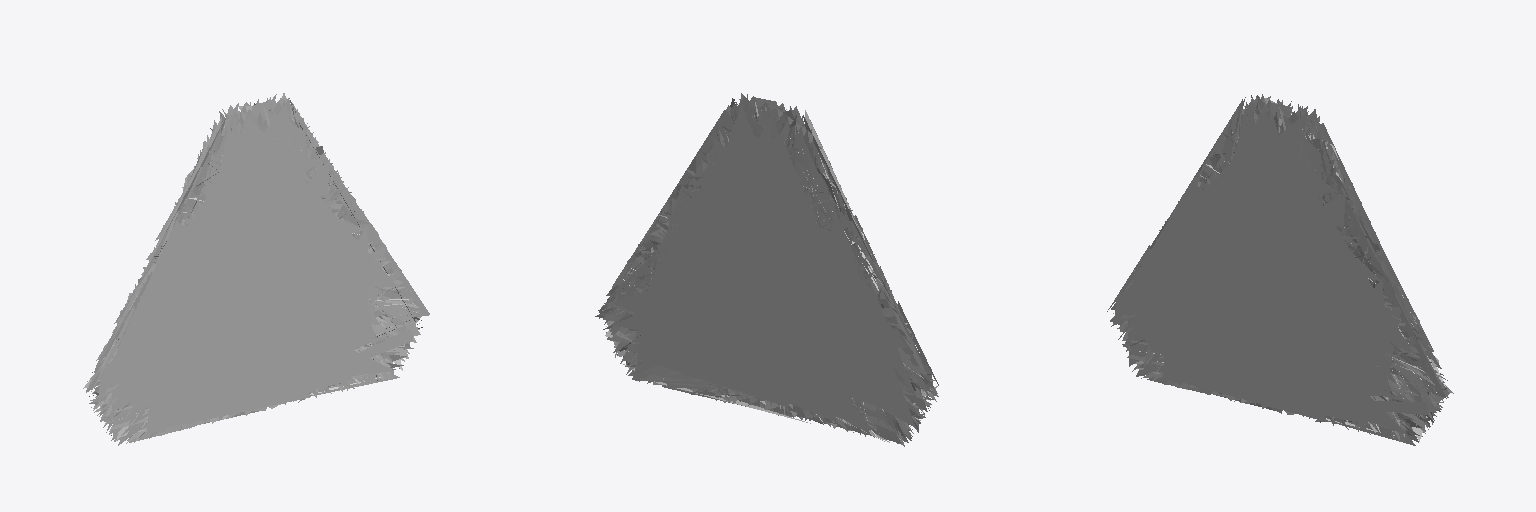
Rendered from lpstl_poissonds.obj.
The picture shows the model from 3 angles: view 1: azimuth 30°, elevation 25°; view 2: azimuth 150°, elevation 25°; view 3: azimuth 330°, elevation 25°; orthographic projection.
Bounding box in the file's own units: 0.4612 × 0.3969 × 0.019.